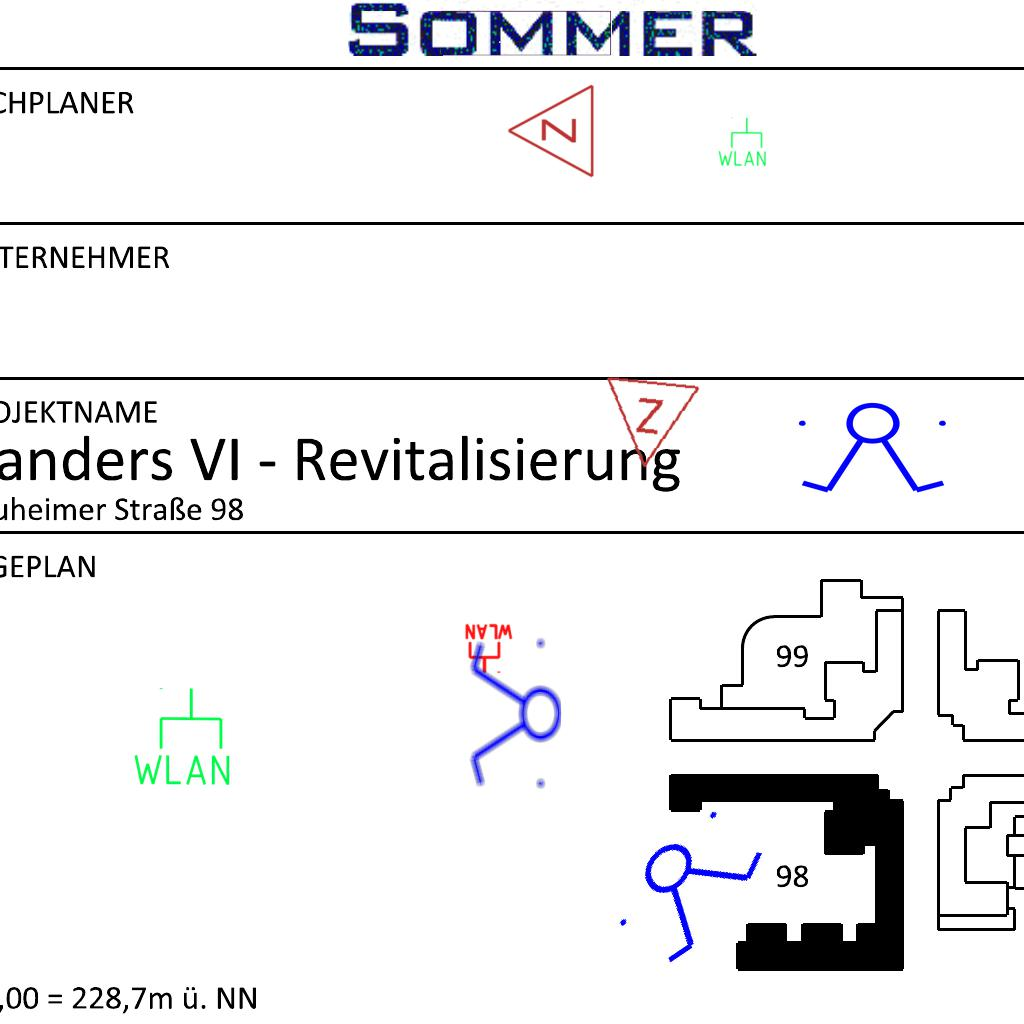Serienschalter: (598, 788, 780, 980), (790, 401, 958, 497), (467, 631, 563, 799)
WLAN: (129, 685, 234, 789), (463, 623, 515, 675), (716, 116, 768, 168)
Zimmersignalleuchte: (596, 369, 704, 479), (501, 83, 601, 181)
